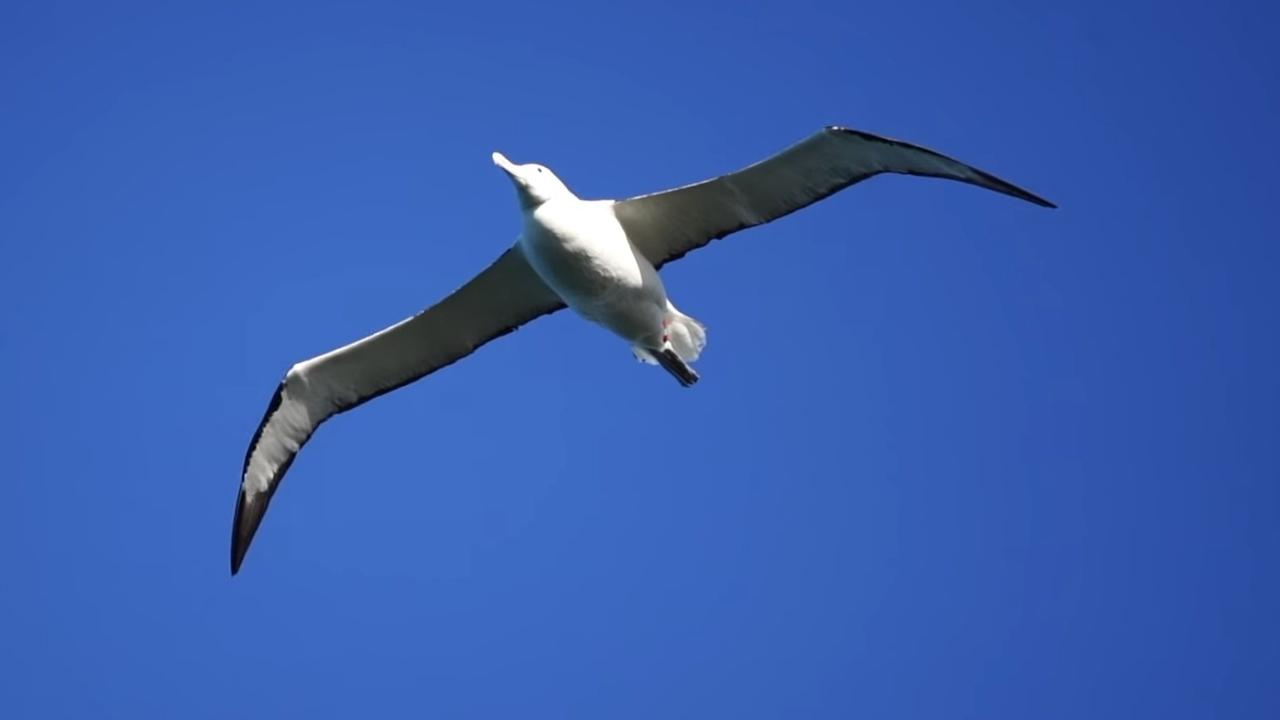Bird: (217, 114, 1066, 590)
